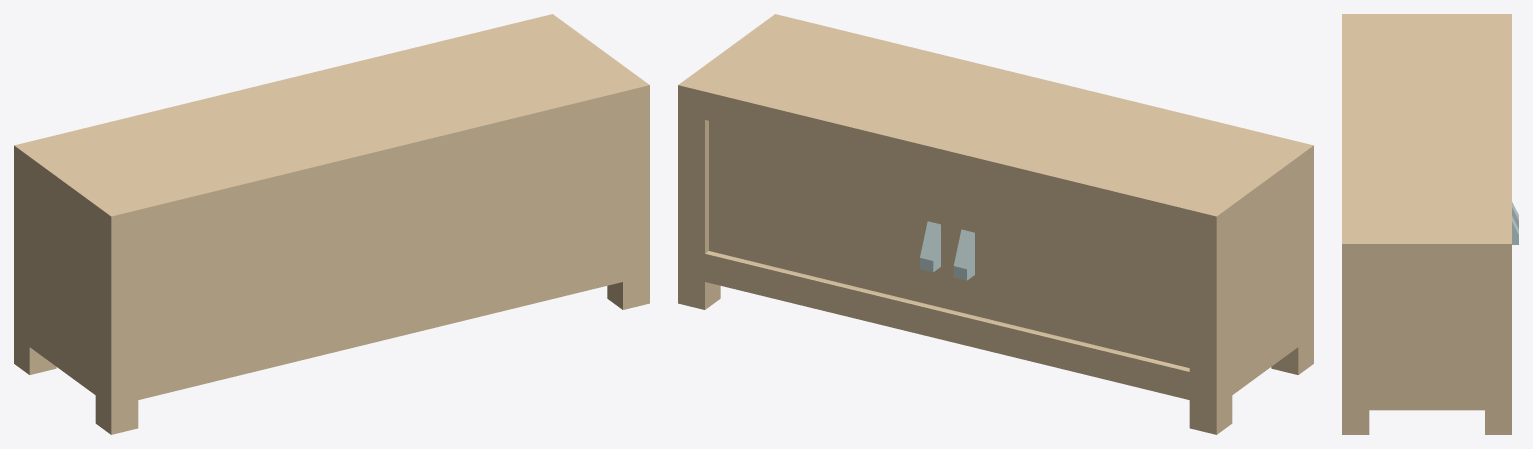
File: cabinetTelevisionDoors.glb
3 renders of one model, left to right at view 1: azimuth 30°, elevation 25°; view 2: azimuth 150°, elevation 25°; view 3: azimuth 270°, elevation 25°, orthographic. The views are drawn at different scales.
Parts seen in each view (by area): view 1: cabinetTelevisionDoors; view 2: cabinetTelevisionDoors; view 3: cabinetTelevisionDoors.
Boxes of the visible parts, x1=… form: cabinetTelevisionDoors: x1=14, y1=14, x2=649, y2=434; cabinetTelevisionDoors: x1=678, y1=14, x2=1313, y2=434; cabinetTelevisionDoors: x1=1342, y1=14, x2=1518, y2=434.
Bounding box in the file's own units: 8 × 3.1 × 2.6.
